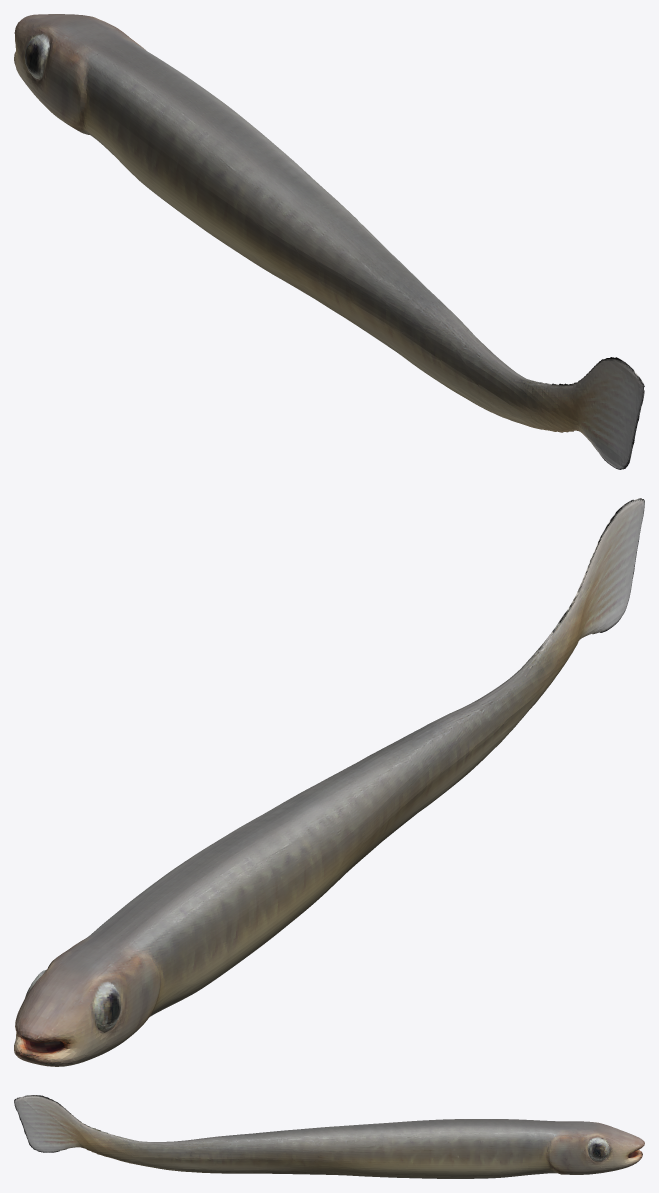
3 renders of one model, top to bottom at view 1: azimuth 30°, elevation 25°; view 2: azimuth 150°, elevation 25°; view 3: azimuth 270°, elevation 25°, orthographic. The views are drawn at different scales.
Visible parts, largest first — view 1: world; view 2: world; view 3: world.
Part boxes in pixels (x1,y1,x2,y2): world: (14,14,644,469); world: (14,498,644,1066); world: (14,1095,644,1178).
Bounding box in the file's own units: 0.0776 × 0.1419 × 0.9991.
1 material, 1 textured.
